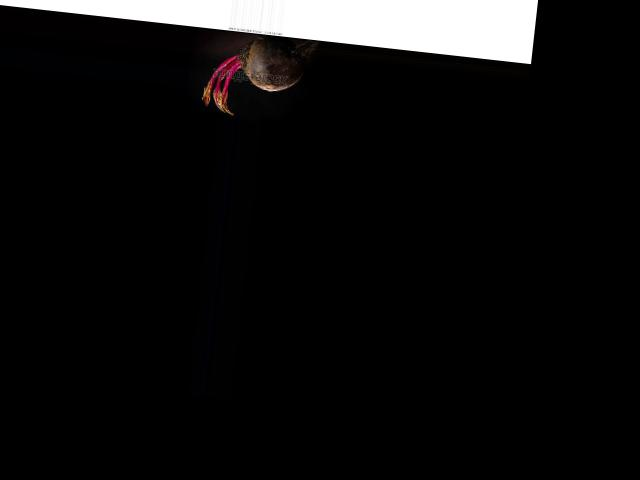beet: (201, 28, 322, 123)
